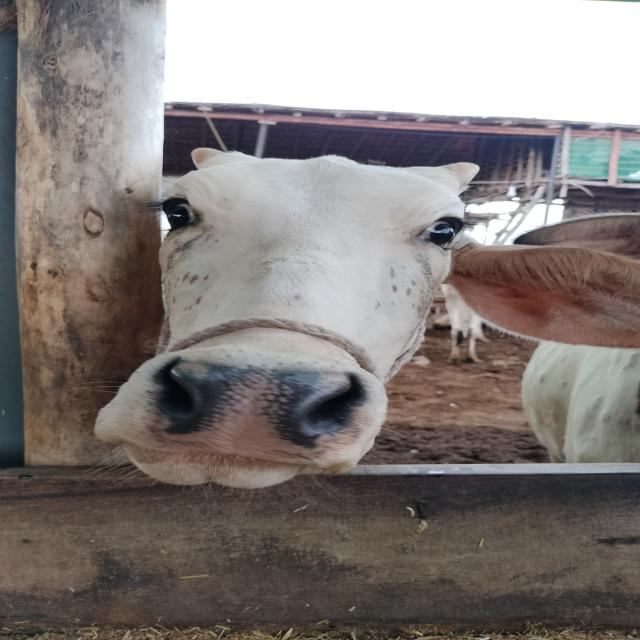muzzles: (127, 350, 383, 475)
